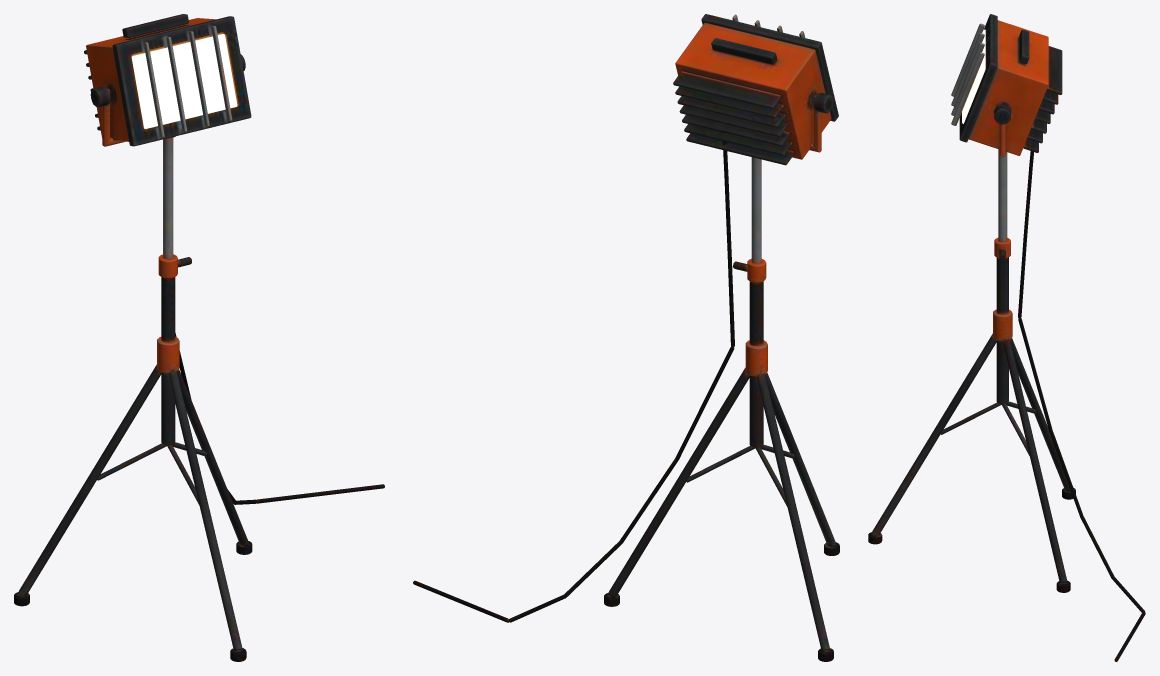
File: work_lamp.glb
3 views of the same model, side by side, from view 1: azimuth 30°, elevation 25°; view 2: azimuth 150°, elevation 25°; view 3: azimuth 270°, elevation 25° (orthographic). The views are drawn at different scales.
Parts seen in each view (by area): view 1: work_lamp; view 2: work_lamp; view 3: work_lamp.
Boxes of the visible parts, bbox=[...] form: work_lamp: bbox=[14, 14, 384, 661]; work_lamp: bbox=[413, 14, 839, 661]; work_lamp: bbox=[868, 14, 1145, 661].
Bounding box in the file's own units: 1.41 × 1.97 × 0.9795.
2 materials, 2 textured.
